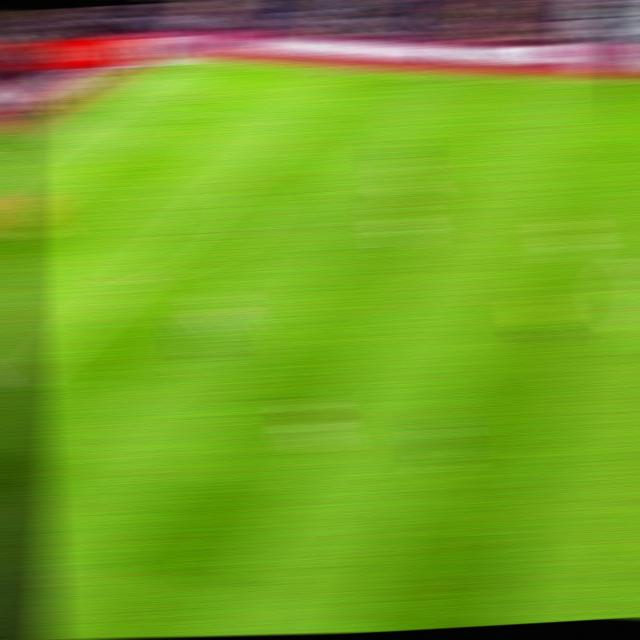bigarea_top_inner: (273, 113, 314, 133)
bigarea_top_outter: (90, 95, 131, 113)
bottom_arc_area_intersection: (106, 269, 150, 291)
corner: (164, 51, 206, 64)
smallarea_top_inner: (80, 152, 119, 169)
smallarea_top_outter: (14, 144, 54, 160)
top_arc_area_intersection: (210, 174, 250, 194)
